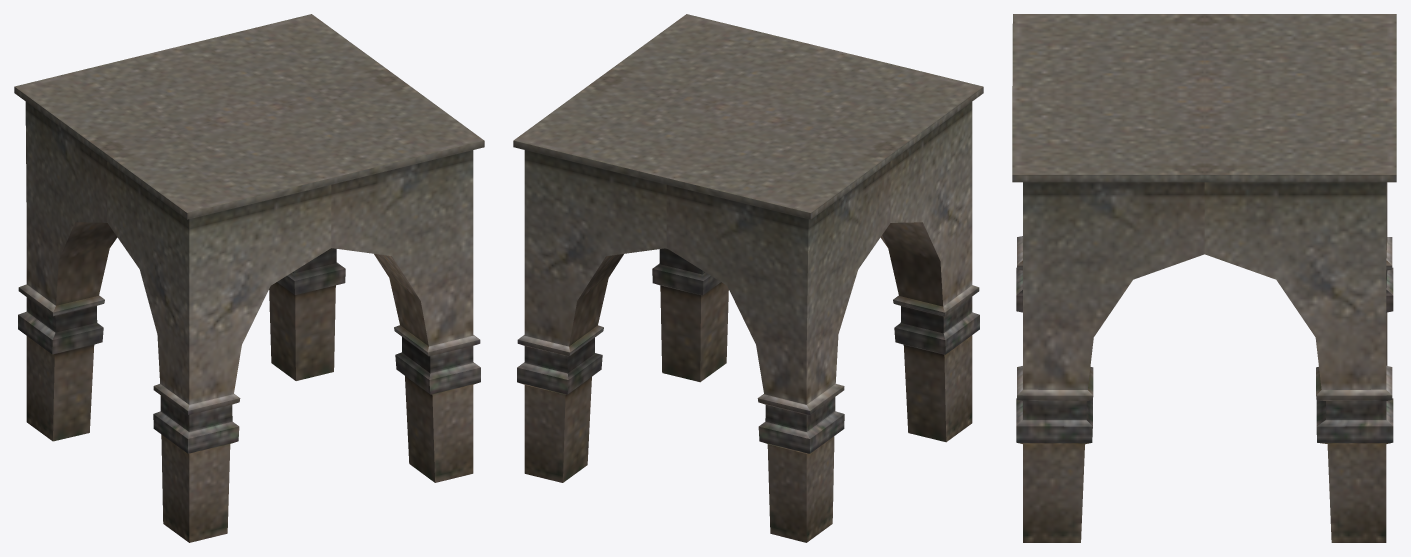
The model's file is SM_zhucheng_poqiang03.FBX.
The picture shows the model from 3 angles, left to right: view 1: azimuth 30°, elevation 25°; view 2: azimuth 150°, elevation 25°; view 3: azimuth 270°, elevation 25°; orthographic projection. The views are drawn at different scales.
Visible parts, largest first — view 1: SM_zhucheng_poqiang03; view 2: SM_zhucheng_poqiang03; view 3: SM_zhucheng_poqiang03.
Boxes of the visible parts, left/top/right/bottom form: SM_zhucheng_poqiang03: left=14, top=14, right=484, bottom=542; SM_zhucheng_poqiang03: left=513, top=14, right=983, bottom=542; SM_zhucheng_poqiang03: left=1012, top=14, right=1396, bottom=542.
Size of the model in its own units: 147 by 158 by 148.
